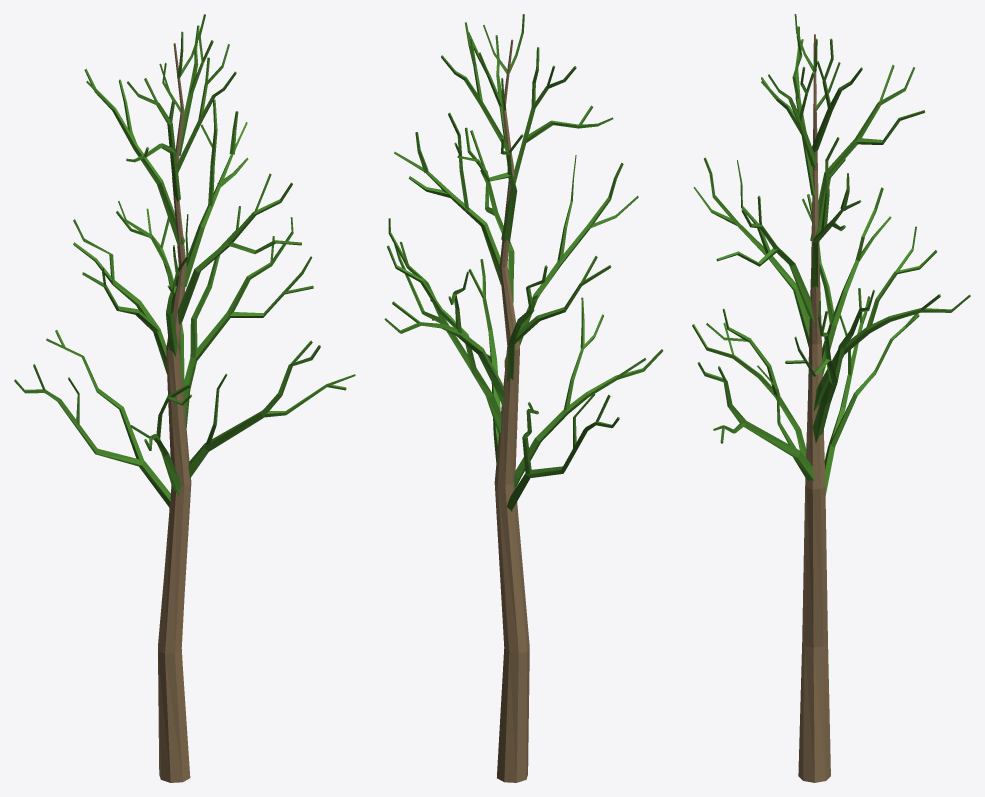
File: TrunkStick.dae
3 views of the same model, side by side, from view 1: azimuth 30°, elevation 25°; view 2: azimuth 150°, elevation 25°; view 3: azimuth 270°, elevation 25° (orthographic).
Visible parts, largest first — view 1: Realistic Tree (×13); view 2: Realistic Tree (×15); view 3: Realistic Tree (×15).
Boxes of the visible parts, x1=… form: Realistic Tree (×13): x1=14, y1=43, x2=320, y2=782; Realistic Tree (×15): x1=384, y1=39, x2=663, y2=782; Realistic Tree (×15): x1=692, y1=26, x2=970, y2=782.
Bounding box in the file's own units: 1 × 0.9053 × 2.72.
